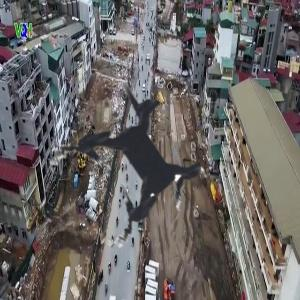drone: (7, 37, 266, 296)
